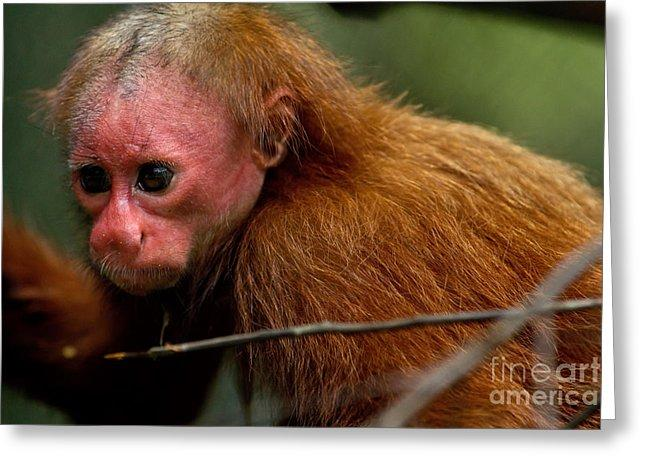monkey: (39, 5, 598, 430)
